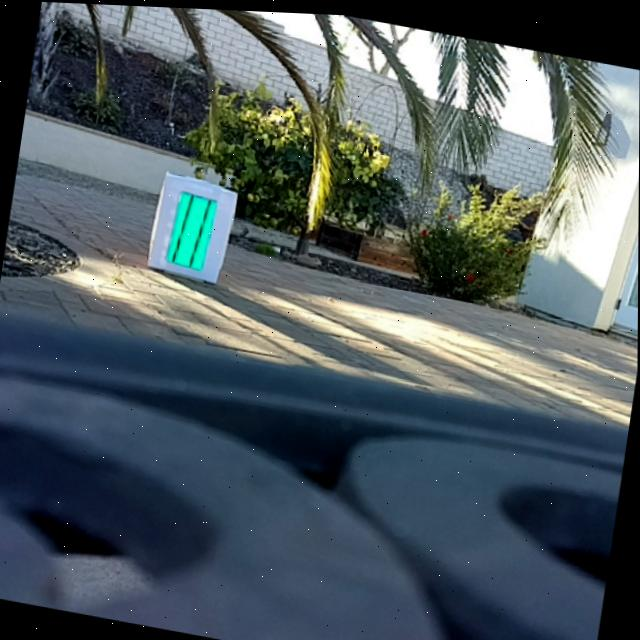led: (166, 189, 217, 271)
